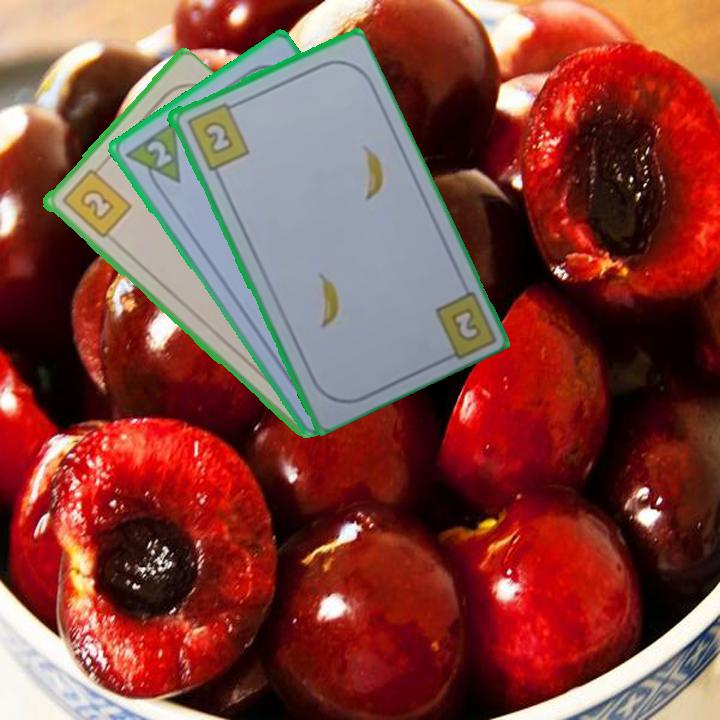2b: (58, 160, 134, 241), (182, 98, 252, 173), (450, 307, 480, 341)
2p: (121, 117, 184, 197)
